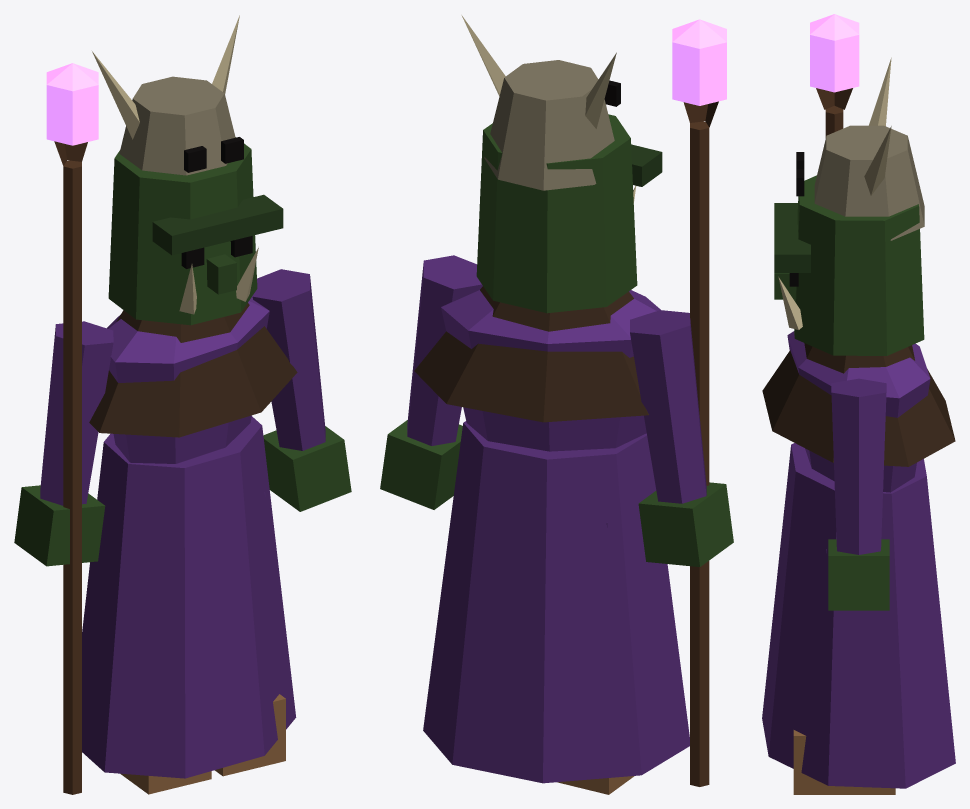
File: orc_shaman.glb
The picture shows the model from 3 angles, left to right: view 1: azimuth 30°, elevation 25°; view 2: azimuth 150°, elevation 25°; view 3: azimuth 270°, elevation 25°; orthographic projection. The views are drawn at different scales.
Parts seen in each view (by area): view 1: orc_shaman_torso, orc_shaman_head, orc_shaman_staff, orc_shaman_arm_l, orc_shaman_arm_r, orc_shaman_leg_l, orc_shaman_leg_r; view 2: orc_shaman_torso, orc_shaman_head, orc_shaman_arm_r, orc_shaman_staff, orc_shaman_arm_l, orc_shaman_leg_r; view 3: orc_shaman_torso, orc_shaman_head, orc_shaman_arm_l, orc_shaman_staff, orc_shaman_leg_l.
Boxes of the visible parts, x1=… form: orc_shaman_torso: x1=82, y1=296, x2=297, y2=778; orc_shaman_head: x1=92, y1=15, x2=283, y2=325; orc_shaman_staff: x1=46, y1=63, x2=98, y2=794; orc_shaman_arm_l: x1=252, y1=269, x2=351, y2=511; orc_shaman_arm_r: x1=14, y1=321, x2=113, y2=566; orc_shaman_leg_l: x1=214, y1=492, x2=285, y2=776; orc_shaman_leg_r: x1=120, y1=771, x2=211, y2=794; orc_shaman_torso: x1=414, y1=286, x2=689, y2=783; orc_shaman_head: x1=461, y1=15, x2=662, y2=313; orc_shaman_arm_r: x1=630, y1=310, x2=733, y2=566; orc_shaman_staff: x1=672, y1=19, x2=726, y2=786; orc_shaman_arm_l: x1=380, y1=255, x2=482, y2=509; orc_shaman_leg_r: x1=557, y1=523, x2=634, y2=794; orc_shaman_torso: x1=762, y1=331, x2=955, y2=788; orc_shaman_head: x1=774, y1=57, x2=924, y2=355; orc_shaman_arm_l: x1=828, y1=378, x2=889, y2=610; orc_shaman_staff: x1=810, y1=14, x2=859, y2=137; orc_shaman_leg_l: x1=793, y1=549, x2=895, y2=794.
Bounding box in the file's own units: 0.9031 × 2.06 × 0.5235.
